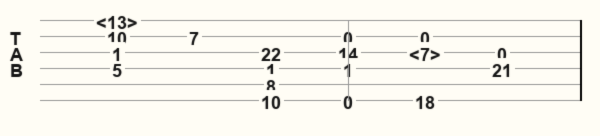0: (343, 28, 357, 45), (343, 92, 357, 109), (420, 28, 434, 45), (497, 44, 511, 61)
1: (112, 44, 126, 61), (266, 60, 280, 77), (343, 60, 357, 77)
10: (107, 28, 131, 45), (261, 92, 285, 109)
14: (338, 44, 362, 61)
18: (415, 92, 439, 109)
21: (492, 60, 516, 77)
22: (261, 44, 285, 61)
5: (112, 60, 126, 77)
7: (189, 28, 203, 45)
8: (266, 76, 280, 93)
harmonic: (96, 12, 142, 29), (409, 44, 445, 61)
